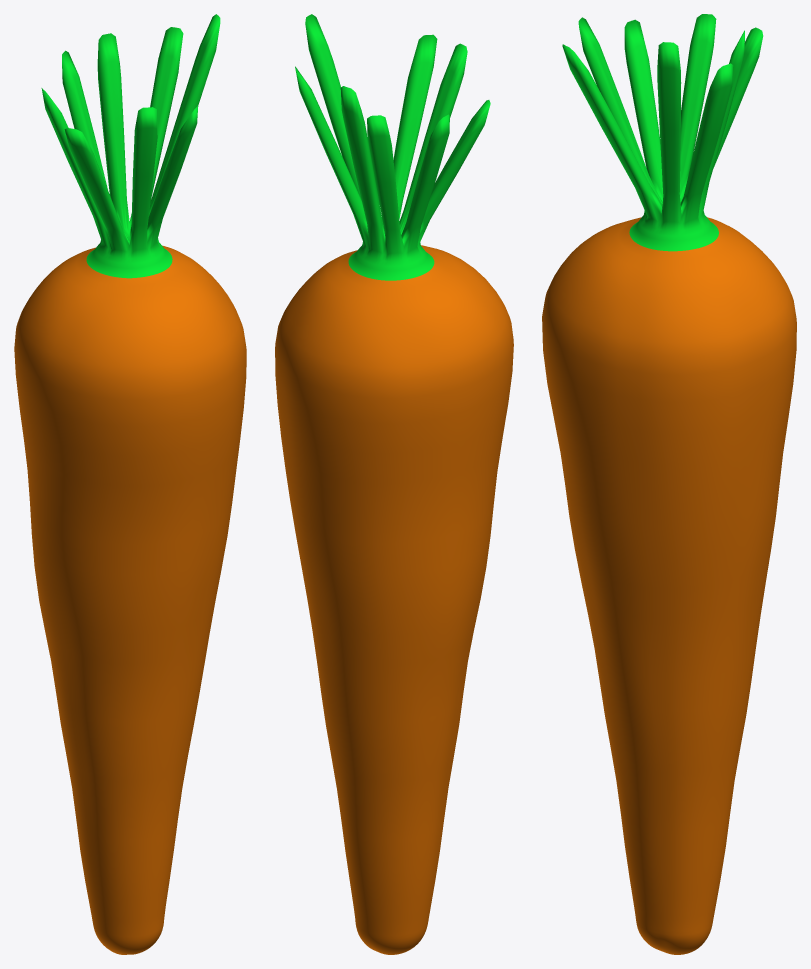
File: Carrot.fbx
3 renders of one model, left to right at view 1: azimuth 30°, elevation 25°; view 2: azimuth 150°, elevation 25°; view 3: azimuth 270°, elevation 25°, orthographic. The views are drawn at different scales.
Visible parts, largest first — view 1: Sphere; view 2: Sphere; view 3: Sphere.
Boxes of the visible parts, x1,y1,x2,y2 form: Sphere: (14, 14, 246, 954); Sphere: (275, 14, 513, 954); Sphere: (542, 14, 796, 954).
Bounding box in the file's own units: 296 × 1275 × 309.
